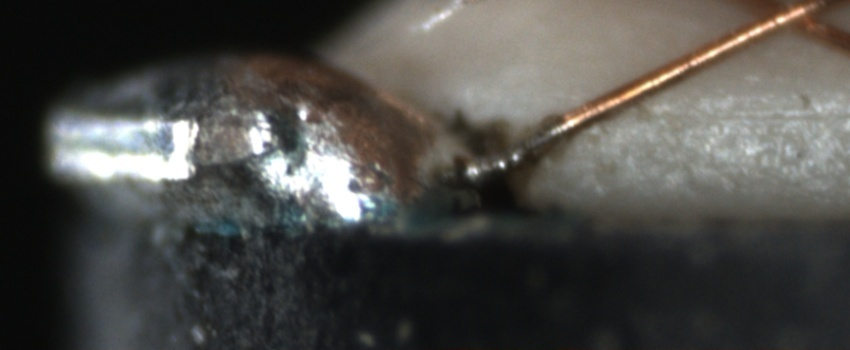CL: (736, 1, 846, 43)
DL: (635, 82, 850, 146)
TS: (462, 119, 571, 181)
TTCW: (469, 107, 593, 185)
